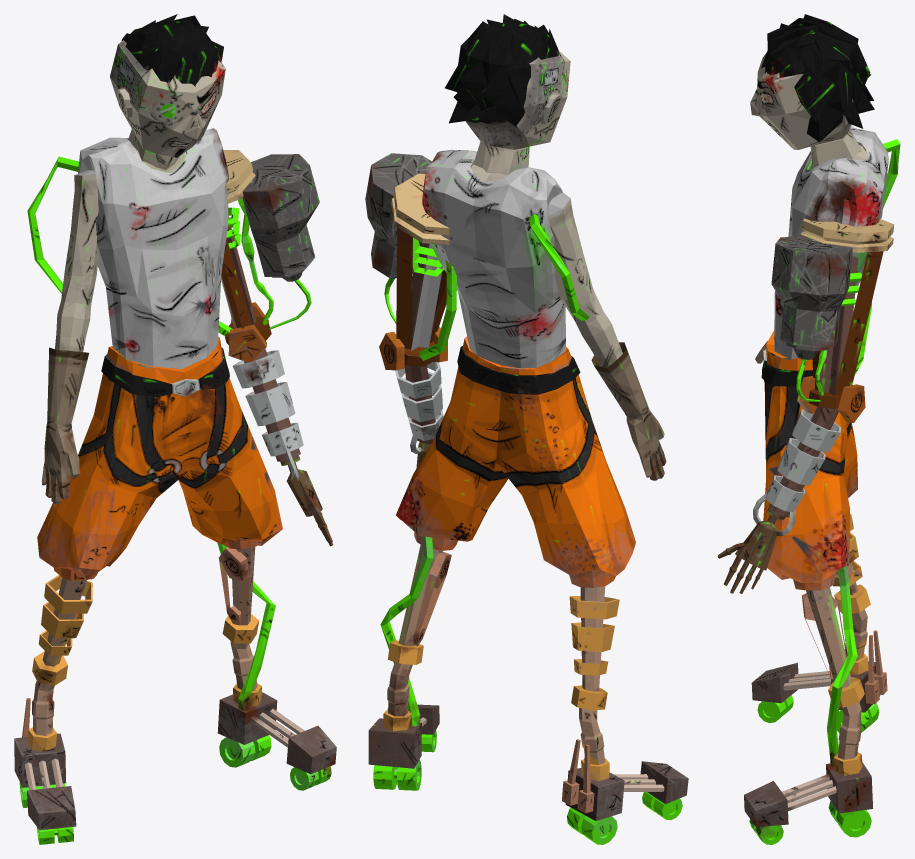
The model's file is CyborgFINALAnimation_000001.obj.
3 renders of one model, left to right at view 1: azimuth 30°, elevation 25°; view 2: azimuth 150°, elevation 25°; view 3: azimuth 270°, elevation 25°, orthographic. The views are drawn at different scales.
Visible parts, largest first — view 1: CyborgMesh_Cube.002; view 2: CyborgMesh_Cube.002; view 3: CyborgMesh_Cube.002.
Part boxes in pixels (x1,y1,x2,y2): CyborgMesh_Cube.002: (14,14,336,844); CyborgMesh_Cube.002: (365,14,688,844); CyborgMesh_Cube.002: (717,14,900,844).
Size of the model in its own units: 3.85 by 9.64 by 2.1.
